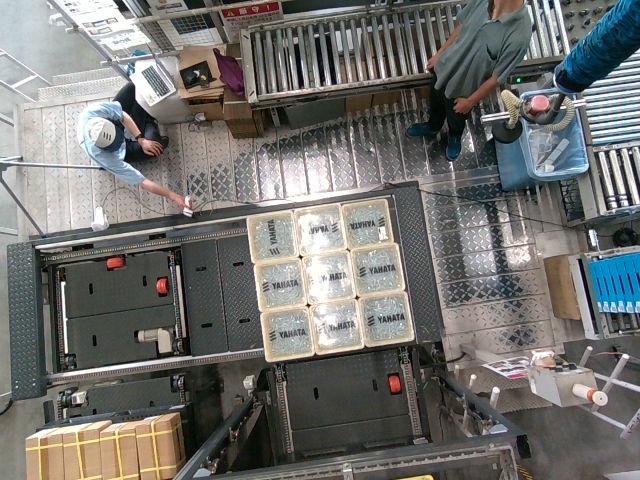box: (246, 215, 296, 261), (293, 206, 343, 252), (341, 200, 391, 246), (354, 249, 404, 295), (303, 253, 353, 299), (255, 262, 305, 308), (261, 313, 311, 359), (309, 303, 359, 349), (360, 295, 410, 341)
